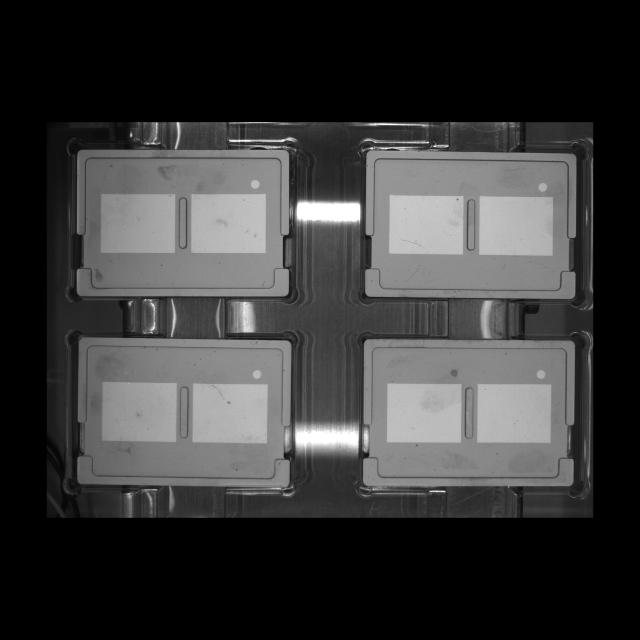product: (356, 137, 589, 309), (355, 330, 590, 499), (63, 327, 296, 497), (65, 136, 299, 305)
